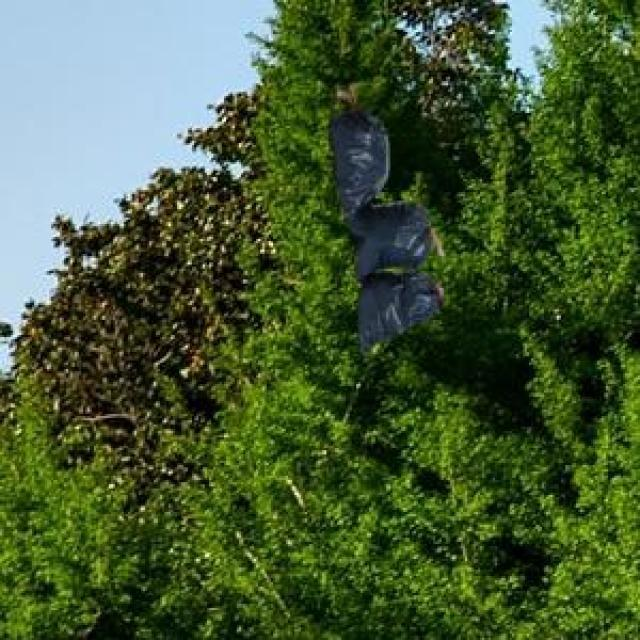miscellaneous trash: (324, 105, 440, 350)
